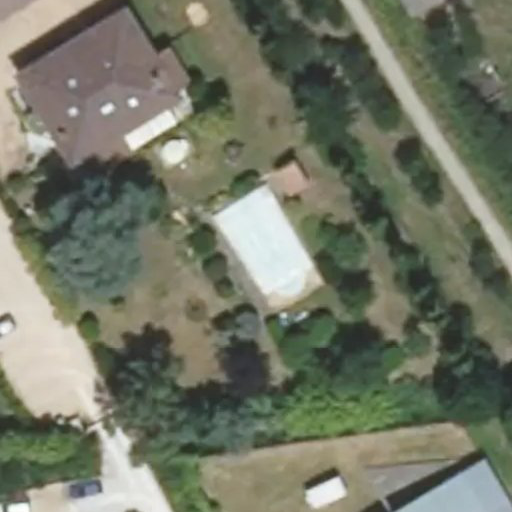pool: (222, 195, 315, 302)
